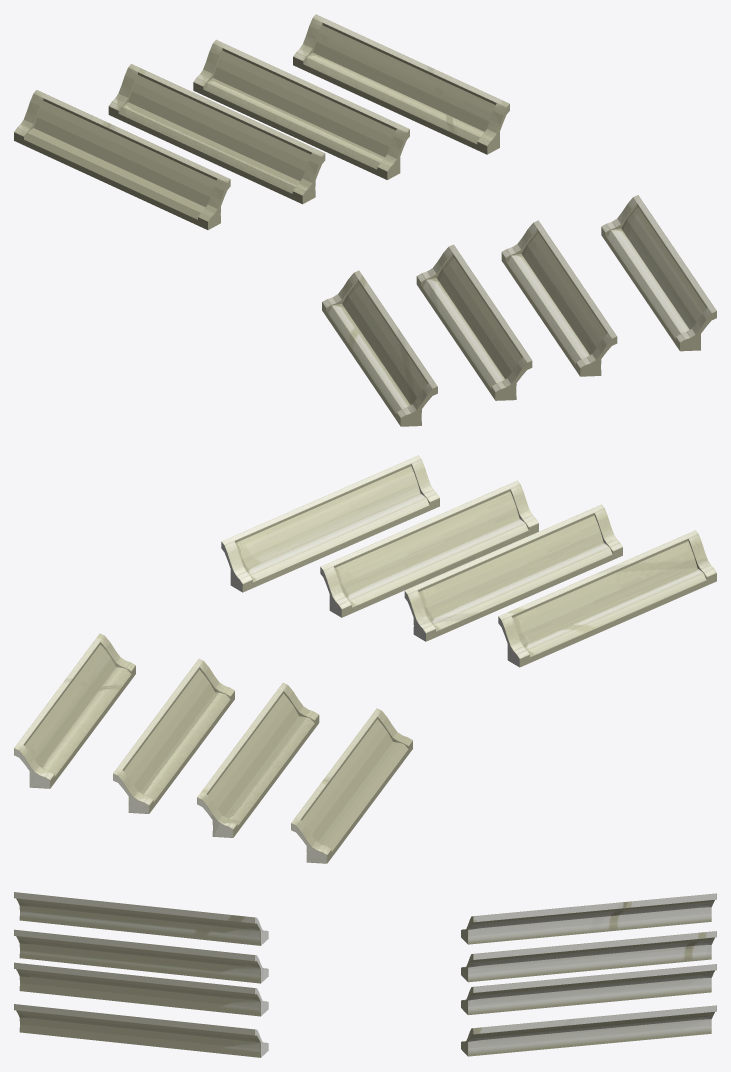
Rendered from chair.obj.
3 renders of one model, top to bottom at view 1: azimuth 30°, elevation 25°; view 2: azimuth 150°, elevation 25°; view 3: azimuth 270°, elevation 25°, orthographic. The views are drawn at different scales.
Size of the model in its own units: 3.56 by 0.4268 by 6.77.
1 material, 1 textured.
